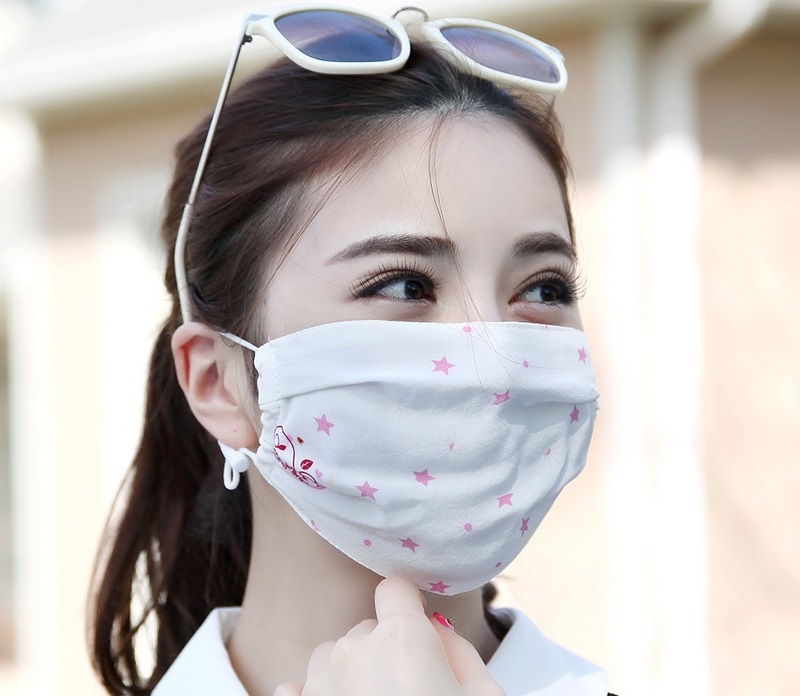face_mask: (271, 117, 598, 581)
